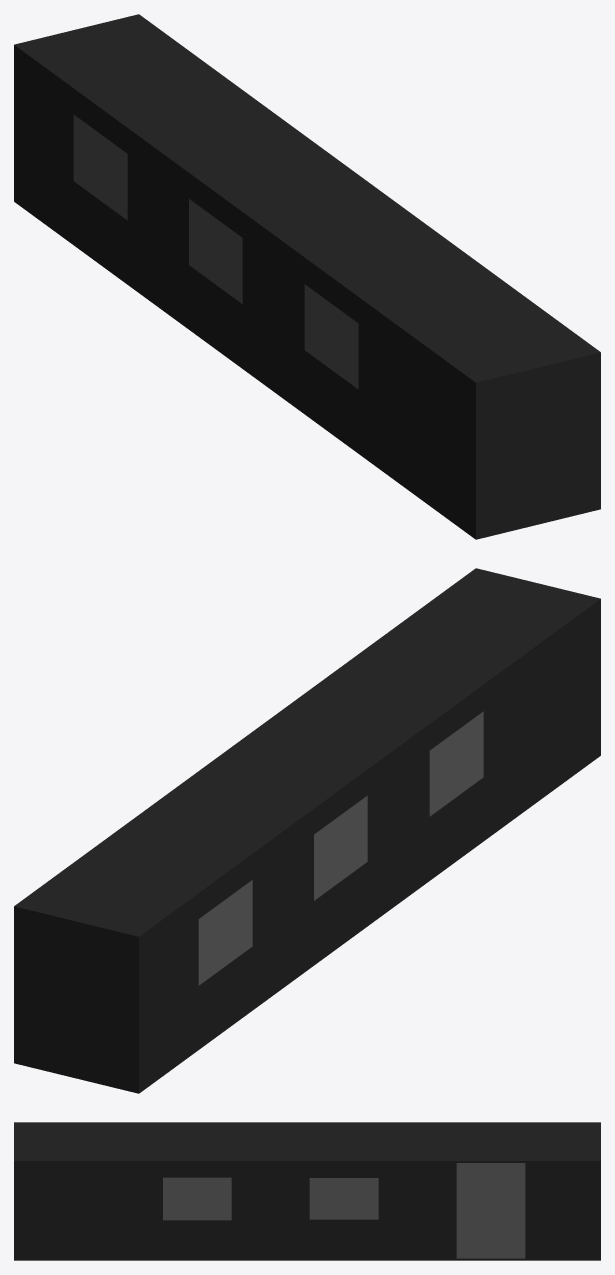
File: train_far.glb
3 views of the same model, one above another, from view 1: azimuth 30°, elevation 25°; view 2: azimuth 150°, elevation 25°; view 3: azimuth 270°, elevation 25° (orthographic). The views are drawn at different scales.
Visible parts, largest first — view 1: vehicles/train_far; view 2: vehicles/train_far; view 3: vehicles/train_far.
Boxes of the visible parts, x1,y1,x2,y2 form: vehicles/train_far: (14, 14, 600, 539); vehicles/train_far: (14, 568, 600, 1093); vehicles/train_far: (14, 1122, 600, 1260).
Size of the model in its own units: 2.5 by 3 by 16.
2 materials, 2 textured.
